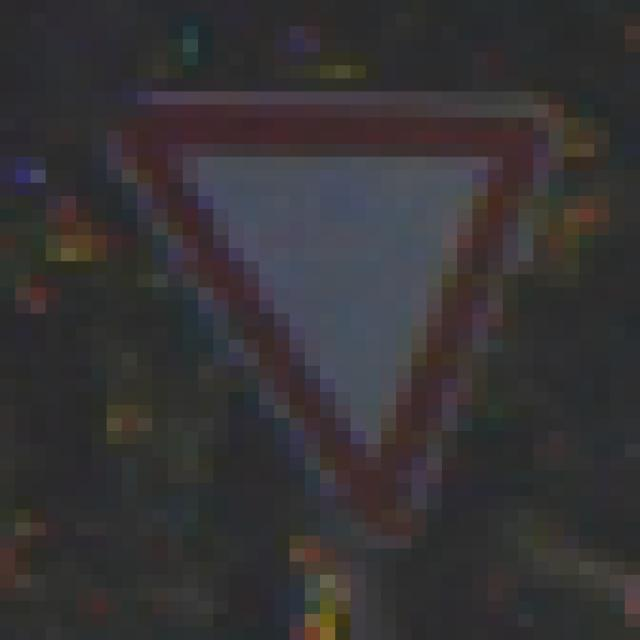Give Way: (77, 66, 565, 576)
